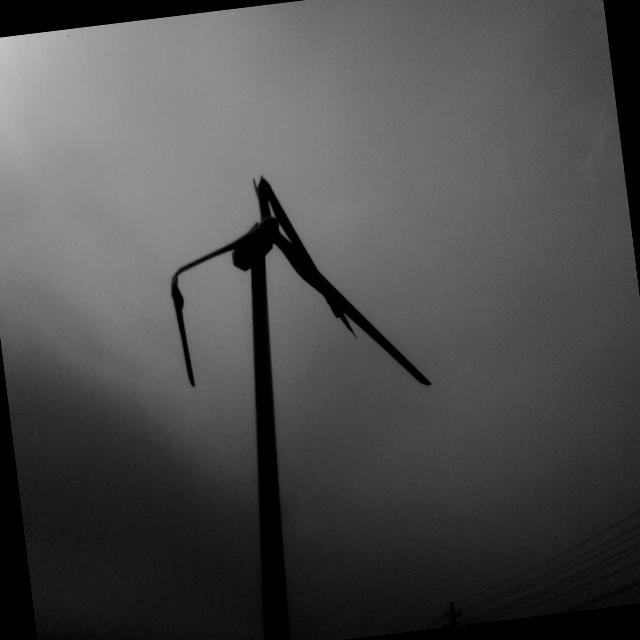crack: (244, 162, 358, 338), (167, 258, 206, 384)
